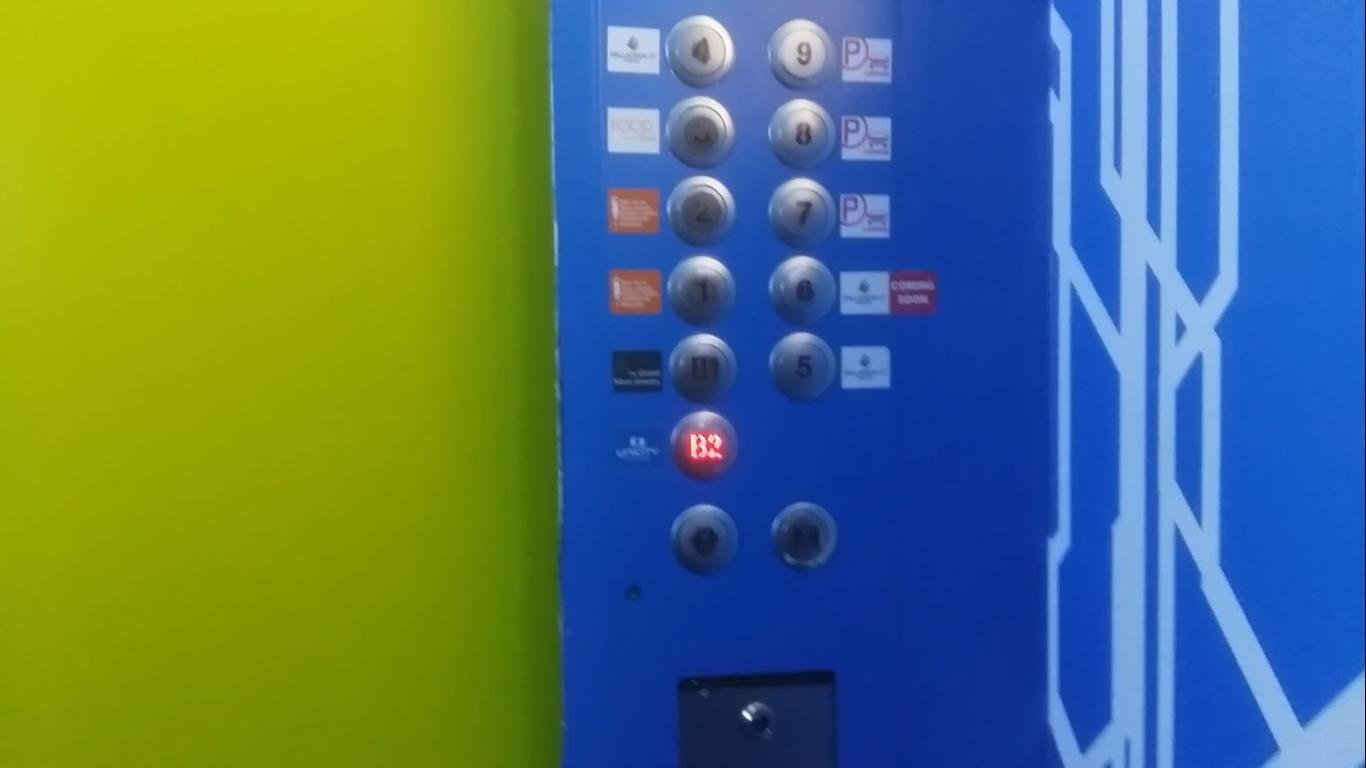1: (663, 254, 735, 324)
2: (663, 173, 736, 245)
4: (663, 13, 734, 87)
5: (766, 330, 837, 400)
6: (765, 255, 836, 326)
7: (766, 175, 837, 247)
8: (765, 93, 838, 168)
9: (765, 15, 834, 89)
B1: (666, 331, 739, 403)
B2: (668, 408, 737, 479)
blur: (663, 94, 735, 166)
close: (767, 499, 838, 571)
keyhole: (716, 684, 789, 743)
open: (668, 502, 742, 575)
